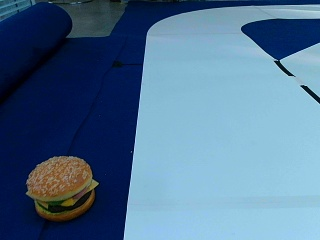burger: (26, 154, 99, 219)
